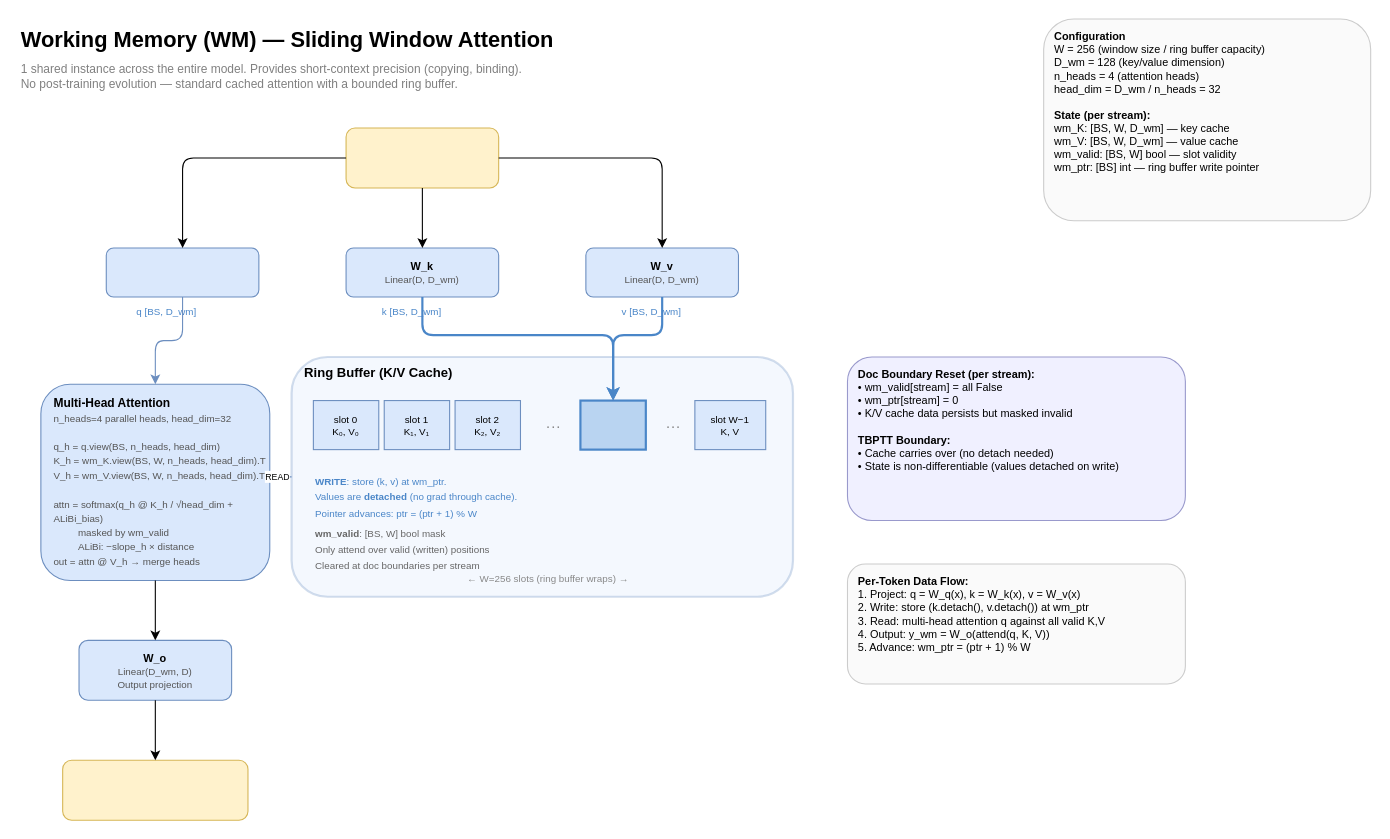
The diagram is 1390 pixels wide and 839 high, and some of its shapes have lost their labels. The shapes that lost their labels are listed below. From the top down, each one's centre as x and y in pixels, then its label:
the point at 422,157: x [BS, D] token embedding
the point at 182,272: W_q Linear(D, D_wm)
the point at 612,424: ptr→ K_t, V_t
the point at 155,789: y_wm [BS, D] Shared across all B blocks
